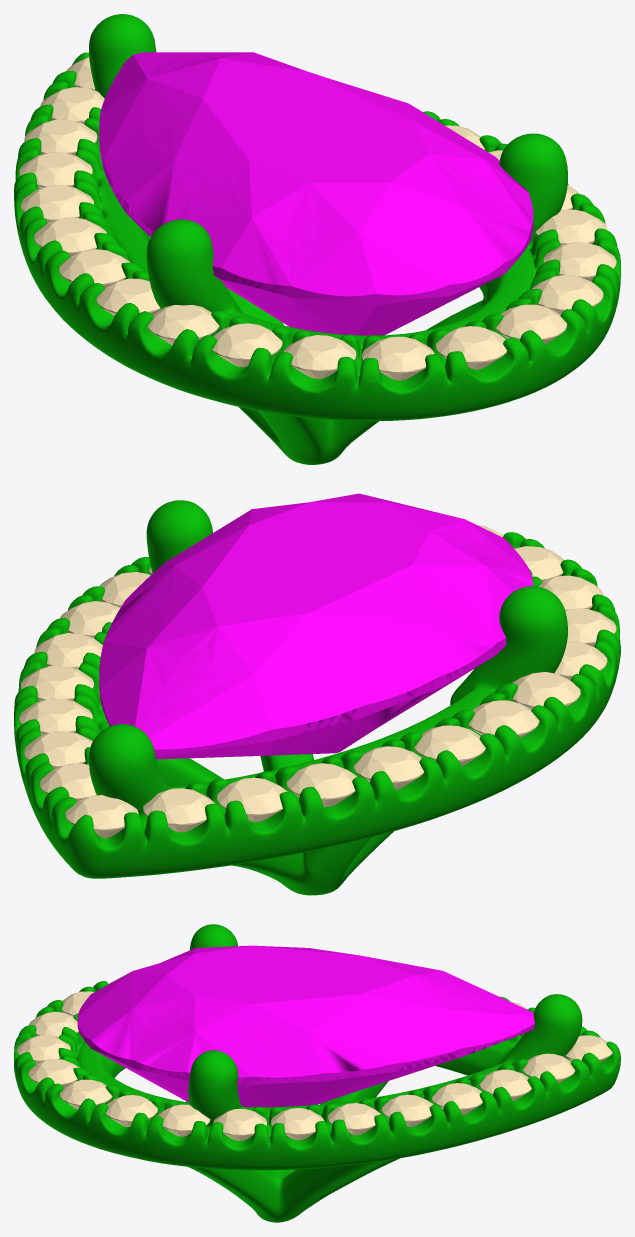
3 views of the same model, one above another, from view 1: azimuth 30°, elevation 25°; view 2: azimuth 150°, elevation 25°; view 3: azimuth 270°, elevation 25° (orthographic). The views are drawn at different scales.
Parts seen in each view (by area): view 1: Diamond_Pear, Metal01, Diamond_Round.012, Diamond_Round.013, Diamond_Round, Diamond_Round.014, Diamond_Round.001, Diamond_Round.015, Diamond_Round.002, Diamond_Round.017, Diamond_Round.018, Diamond_Round.003 (+6 smaller); view 2: Diamond_Pear, Metal01, Diamond_Round.021, Diamond_Round.022, Diamond_Round.019, Diamond_Round.020, Diamond_Round.018, Diamond_Round.017, Diamond_Round.023, Diamond_Round.016, Diamond_Round.010, Diamond_Round.008 (+9 smaller); view 3: Diamond_Pear, Metal01, Diamond_Round.006, Diamond_Round.007, Diamond_Round.005, Diamond_Round.003, Diamond_Round.008, Diamond_Round.009, Diamond_Round.004, Diamond_Round.002, Diamond_Round.010, Diamond_Round.011 (+5 smaller).
Boxes of the visible parts, x1,y1,x2,y2 form: Diamond_Pear: (99,52,533,335); Metal01: (14,14,620,464); Diamond_Round.012: (362,336,434,380); Diamond_Round.013: (284,335,356,378); Diamond_Round: (436,326,506,369); Diamond_Round.014: (212,323,282,367); Diamond_Round.001: (495,304,566,344); Diamond_Round.015: (147,305,219,345); Diamond_Round.002: (532,274,603,314); Diamond_Round.017: (59,249,129,287); Diamond_Round.018: (34,217,106,256); Diamond_Round.003: (543,242,616,281); Diamond_Pear: (99,493,533,759); Metal01: (14,500,620,895); Diamond_Round.021: (217,777,287,822); Diamond_Round.022: (143,788,214,832); Diamond_Round.019: (353,746,424,789); Diamond_Round.020: (286,763,356,806); Diamond_Round.018: (414,725,485,766); Diamond_Round.017: (468,700,539,738); Diamond_Round.023: (65,795,138,838); Diamond_Round.016: (512,672,580,709); Diamond_Round.010: (24,731,92,769); Diamond_Round.008: (21,665,93,701); Diamond_Pear: (77,945,534,1107); Metal01: (14,924,620,1222); Diamond_Round.006: (271,1108,324,1140); Diamond_Round.007: (328,1103,380,1135); Diamond_Round.005: (213,1108,266,1141); Diamond_Round.003: (106,1095,157,1126); Diamond_Round.008: (382,1094,433,1126); Diamond_Round.009: (432,1083,482,1114); Diamond_Round.004: (157,1104,210,1136); Diamond_Round.002: (60,1079,112,1109); Diamond_Round.010: (479,1069,531,1100); Diamond_Round.011: (522,1053,575,1083).
Bounding box in the file's own units: 11.48 × 7.48 × 17.
